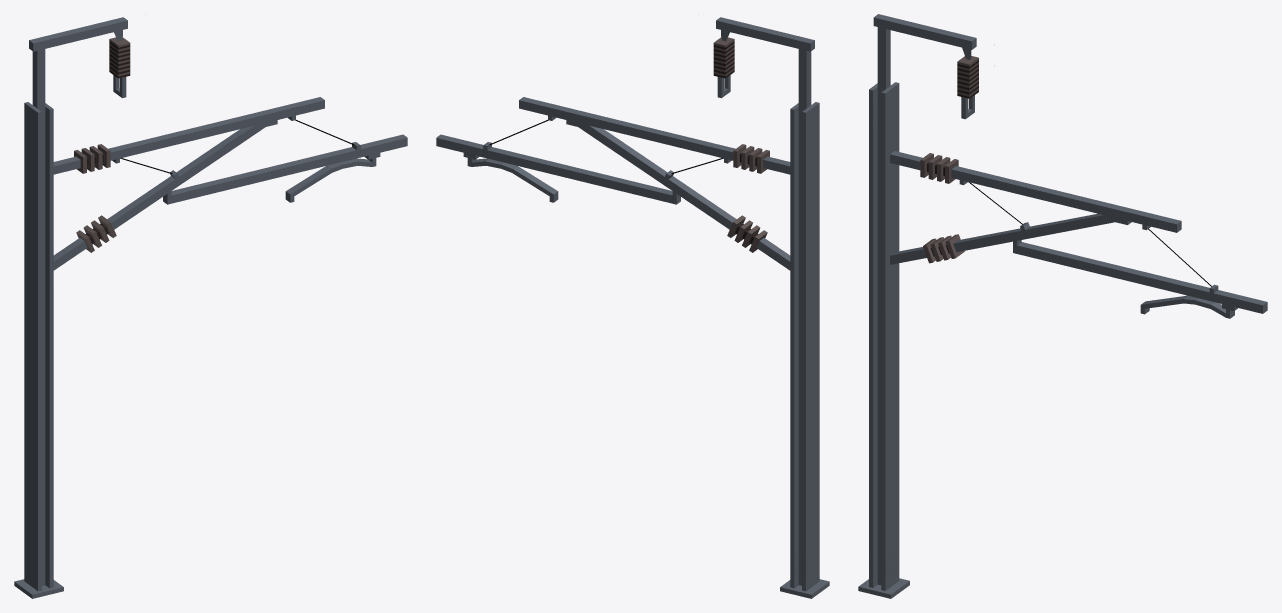
The model's file is athen-catenary-5m.obj.
3 renders of one model, left to right at view 1: azimuth 30°, elevation 25°; view 2: azimuth 150°, elevation 25°; view 3: azimuth 330°, elevation 25°, orthographic. The views are drawn at different scales.
Visible parts, largest first — view 1: cube; view 2: cube; view 3: cube.
Part boxes in pixels (x1,y1,x2,y2): cube: [14, 17, 407, 598]; cube: [436, 17, 829, 598]; cube: [858, 14, 1267, 598].
Size of the model in its own units: 6.06 by 8.31 by 0.5.
Materials: 1 (1 with a texture image).
